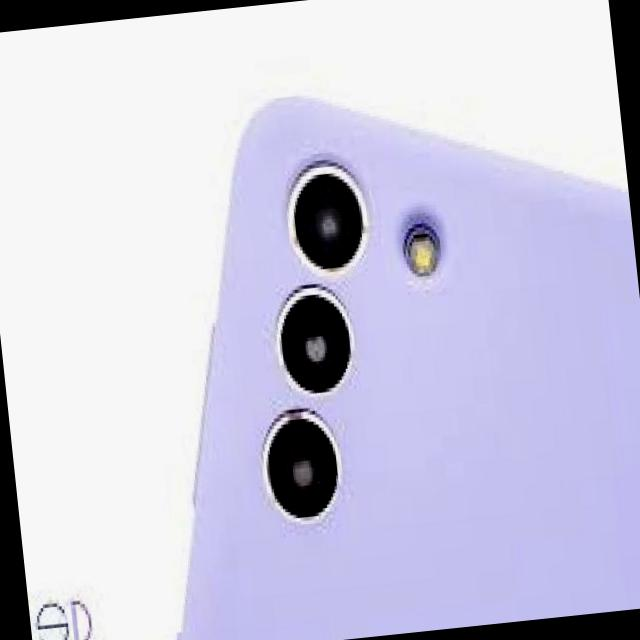lens_back: (249, 408, 366, 544), (279, 149, 386, 288), (264, 286, 367, 411)
